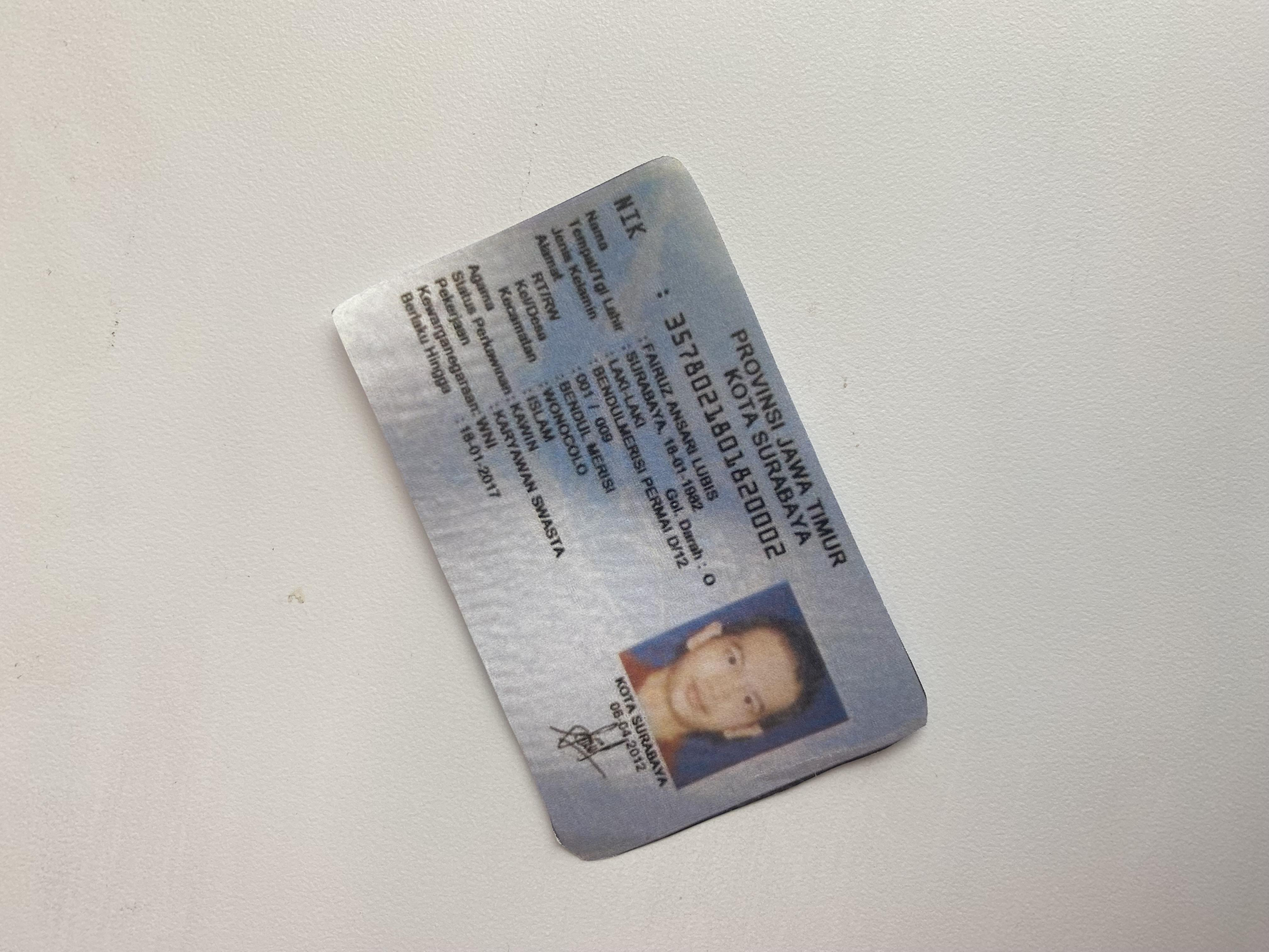ID-card: (110, 240, 1074, 702)
